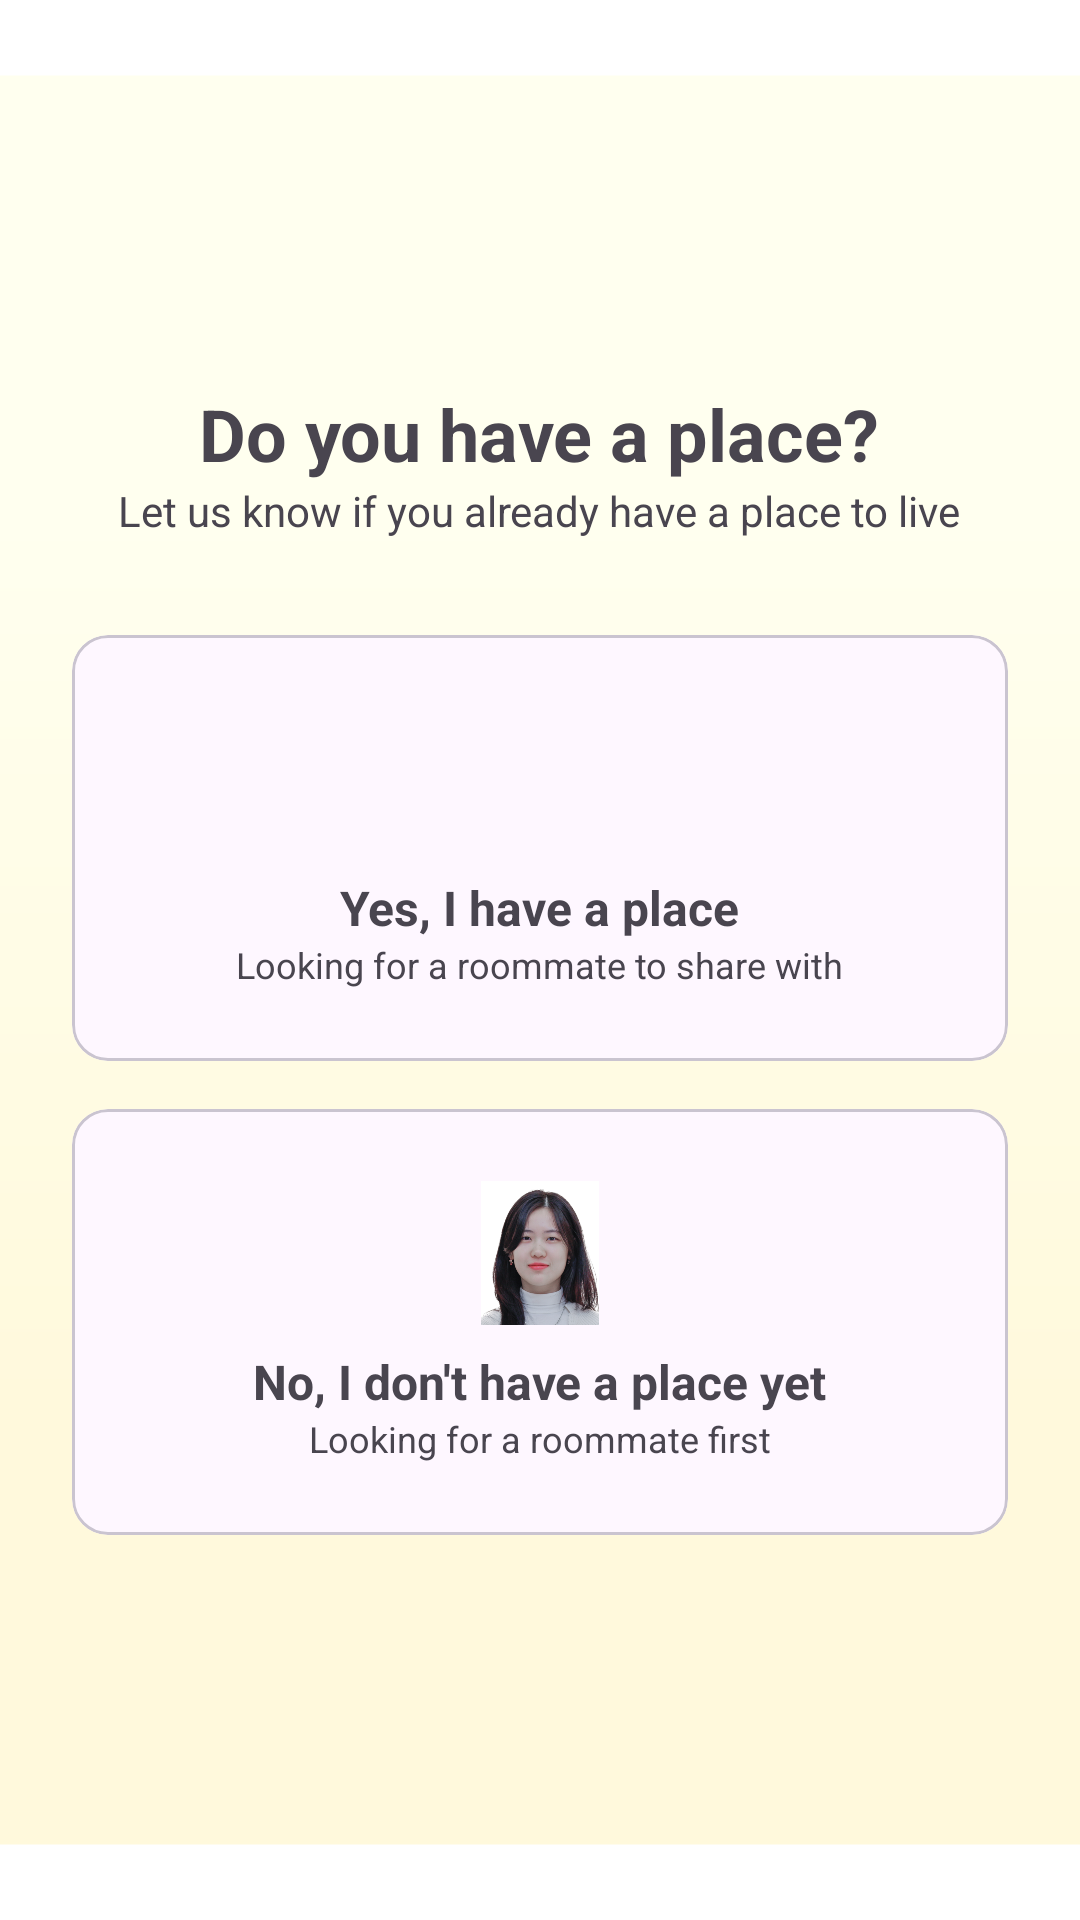

Point at icon controls on the screen. Image size 1080w x 1920h, points as [x,y].
person: [540,1257]
